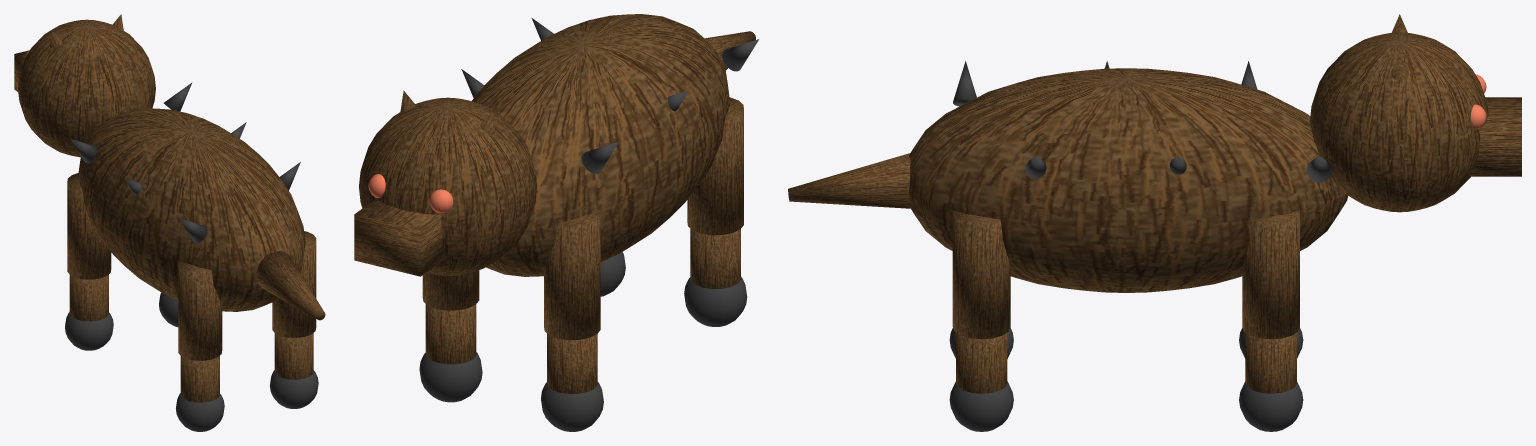
The model's file is bramble-imp.glb.
The picture shows the model from 3 angles, left to right: view 1: azimuth 30°, elevation 25°; view 2: azimuth 150°, elevation 25°; view 3: azimuth 270°, elevation 25°; orthographic projection. The views are drawn at different scales.
Visible parts, largest first — view 1: Body, Head, LegUpper, LegUpper.001, Tail, LegUpper.002, LegLower.001, LegLower, LegLower.002, Paw.002, Paw, Paw.001 (+5 smaller); view 2: Body, Head, LegUpper.001, Snout, LegUpper, LegLower.003, LegLower, LegLower.001, Paw.003, Paw.001, Paw, LegUpper.003 (+5 smaller); view 3: Body, Head, LegUpper.002, LegUpper.003, Tail, Snout, LegLower.002, LegLower.003, Paw.002, Paw.003.
Boxes of the visible parts, x1,y1,x2,y2 form: Body: (78, 108, 305, 311); Head: (18, 19, 155, 157); LegUpper: (178, 260, 222, 360); LegUpper.001: (67, 173, 111, 279); Tail: (257, 251, 325, 320); LegUpper.002: (272, 231, 316, 337); LegLower.001: (69, 274, 108, 321); LegLower: (180, 356, 219, 402); LegLower.002: (274, 333, 313, 379); Paw.002: (270, 370, 318, 408); Paw: (176, 393, 224, 431); Paw.001: (65, 312, 113, 350); Body: (472, 14, 730, 276); Head: (359, 97, 536, 275); LegUpper.001: (544, 210, 600, 339); Snout: (354, 199, 446, 276); LegUpper: (687, 97, 743, 235); LegLower.003: (425, 304, 476, 364); LegLower: (690, 228, 740, 289); LegLower.001: (547, 333, 597, 393); Paw.003: (419, 352, 482, 402); Paw.001: (541, 382, 603, 431); Paw: (684, 277, 747, 326); LegUpper.003: (422, 270, 479, 310); Body: (908, 68, 1347, 292); Head: (1310, 32, 1488, 212); LegUpper.002: (952, 210, 1010, 339); LegUpper.003: (1242, 210, 1299, 339); Tail: (788, 153, 910, 208); Snout: (1469, 97, 1521, 176); LegLower.002: (956, 332, 1007, 393); LegLower.003: (1245, 332, 1296, 393); Paw.002: (949, 381, 1013, 431); Paw.003: (1239, 381, 1303, 431).
Size of the model in its own units: 0.5539 by 0.986 by 1.8.
3 materials, 1 textured.
